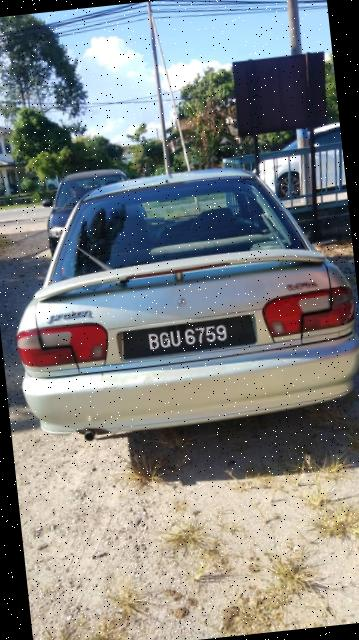License_Plate: (126, 314, 252, 358)
car: (1, 148, 359, 460)
